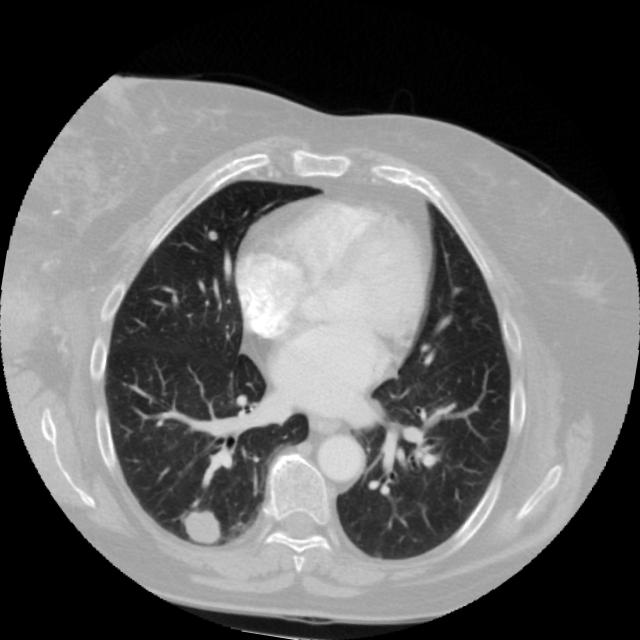nodule: (198, 220, 226, 249)
